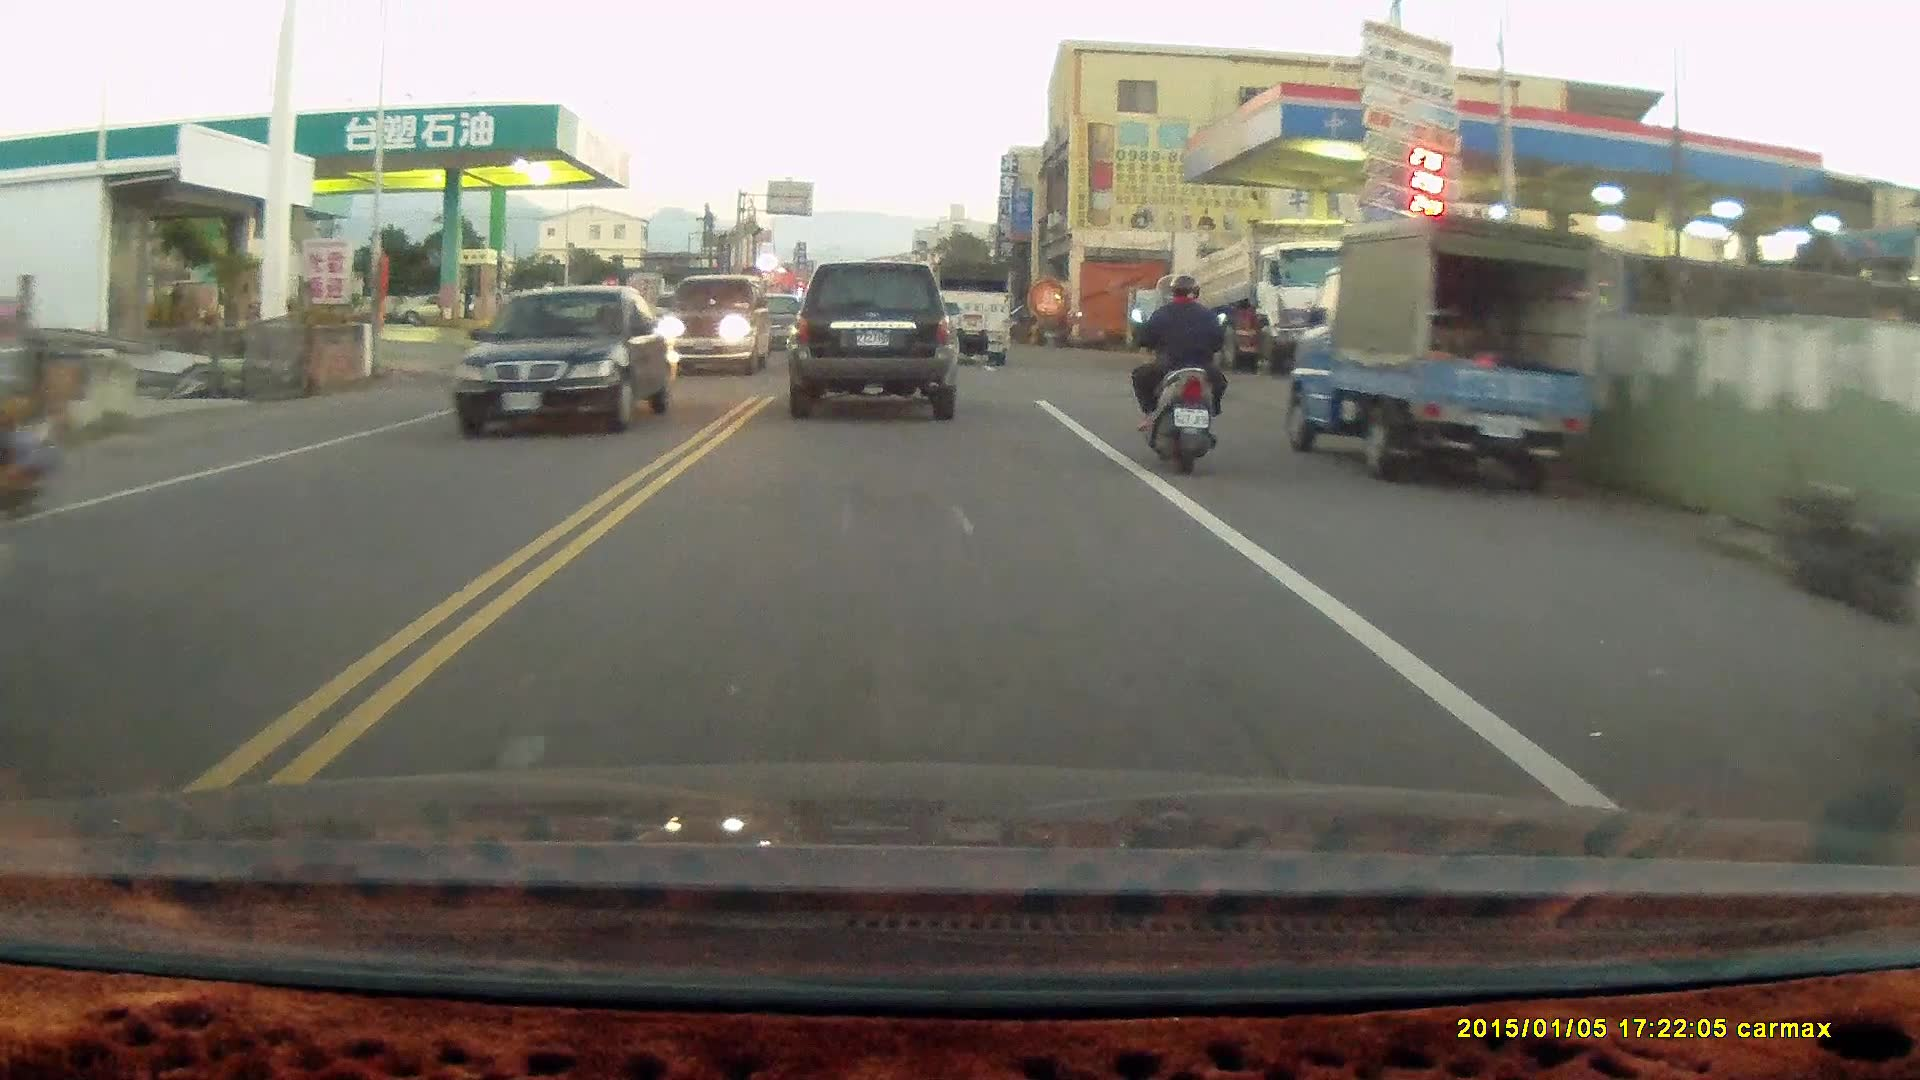rider: (1131, 277, 1231, 480)
vehicle: (1287, 220, 1614, 485), (454, 288, 684, 437), (788, 262, 958, 419), (658, 273, 776, 381), (919, 253, 1014, 365)
